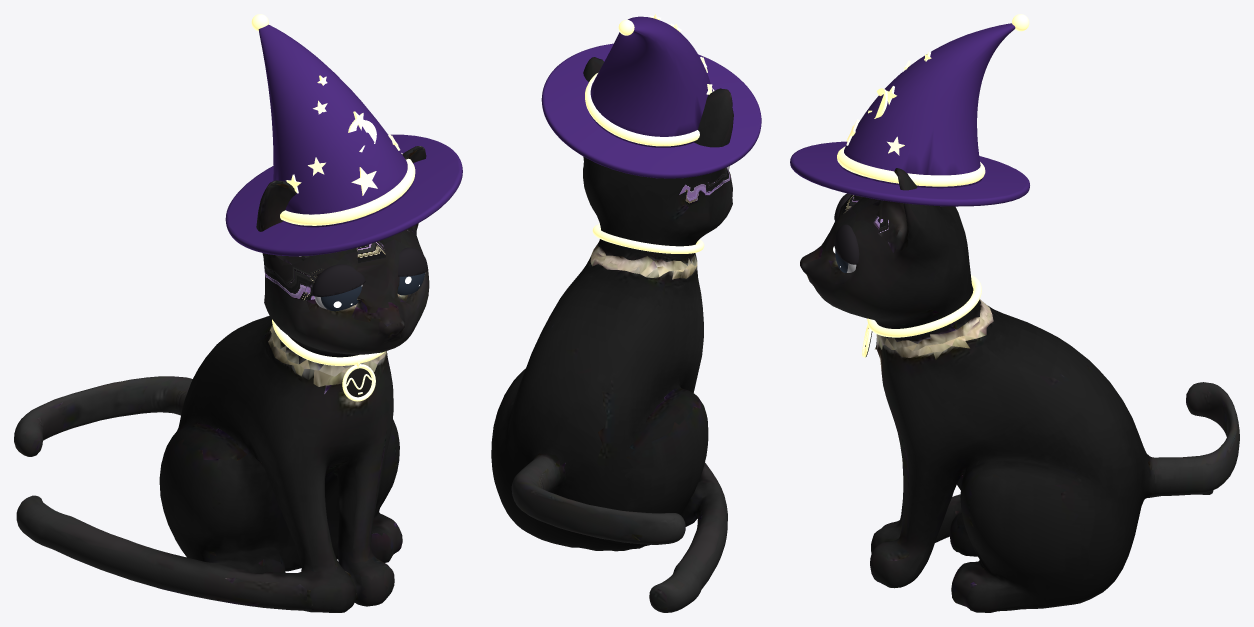
The model's file is tommy.glb.
The picture shows the model from 3 angles, left to right: view 1: azimuth 30°, elevation 25°; view 2: azimuth 150°, elevation 25°; view 3: azimuth 270°, elevation 25°; orthographic projection. The views are drawn at different scales.
Visible parts, largest first — view 1: Tommy.001, THatCone, Cylinder, Torus, TLidL, TCollar, TLidR; view 2: Tommy.001, Cylinder, THatCone, Torus, TCollar; view 3: Tommy.001, THatCone, Cylinder, Torus, TCollar, TLidR.
Boxes of the visible parts, x1=… form: Tommy.001: x1=14, y1=146, x2=429, y2=612; THatCone: x1=258, y1=24, x2=414, y2=227; Cylinder: x1=225, y1=134, x2=462, y2=256; Torus: x1=280, y1=153, x2=415, y2=225; TLidL: x1=312, y1=264, x2=365, y2=296; TCollar: x1=272, y1=319, x2=385, y2=365; TLidR: x1=398, y1=247, x2=427, y2=276; Tommy.001: x1=491, y1=57, x2=733, y2=612; Cylinder: x1=541, y1=43, x2=761, y2=178; THatCone: x1=588, y1=16, x2=712, y2=147; Torus: x1=585, y1=73, x2=714, y2=146; TCollar: x1=592, y1=224, x2=704, y2=253; Tommy.001: x1=800, y1=168, x2=1239, y2=612; THatCone: x1=838, y1=23, x2=1015, y2=188; Cylinder: x1=790, y1=141, x2=1029, y2=206; Torus: x1=837, y1=146, x2=985, y2=186; TCollar: x1=867, y1=275, x2=981, y2=337; TLidR: x1=834, y1=224, x2=859, y2=264.
Bounding box in the file's own units: 0.9782 × 1.79 × 1.34.
8 materials, 8 textured.
